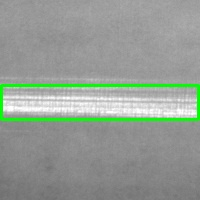scratches: (1, 85, 198, 119)
